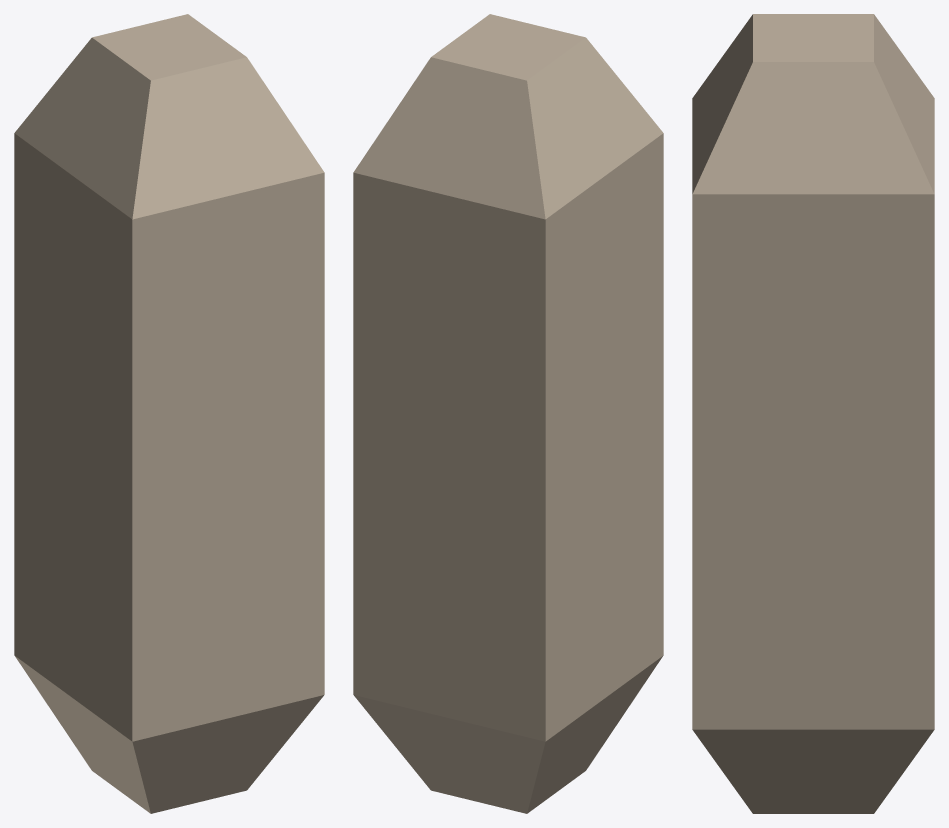
Rendered from Bandit4UpperLeg.fbx.
3 renders of one model, left to right at view 1: azimuth 30°, elevation 25°; view 2: azimuth 150°, elevation 25°; view 3: azimuth 270°, elevation 25°, orthographic. The views are drawn at different scales.
Visible parts, largest first — view 1: Bandit4UpperLeg; view 2: Bandit4UpperLeg; view 3: Bandit4UpperLeg.
Boxes of the visible parts, x1=… form: Bandit4UpperLeg: x1=14, y1=14, x2=324, y2=813; Bandit4UpperLeg: x1=353, y1=14, x2=663, y2=813; Bandit4UpperLeg: x1=692, y1=14, x2=934, y2=813.
Bounding box in the file's own units: 0.1568 × 0.5717 × 0.1668.
